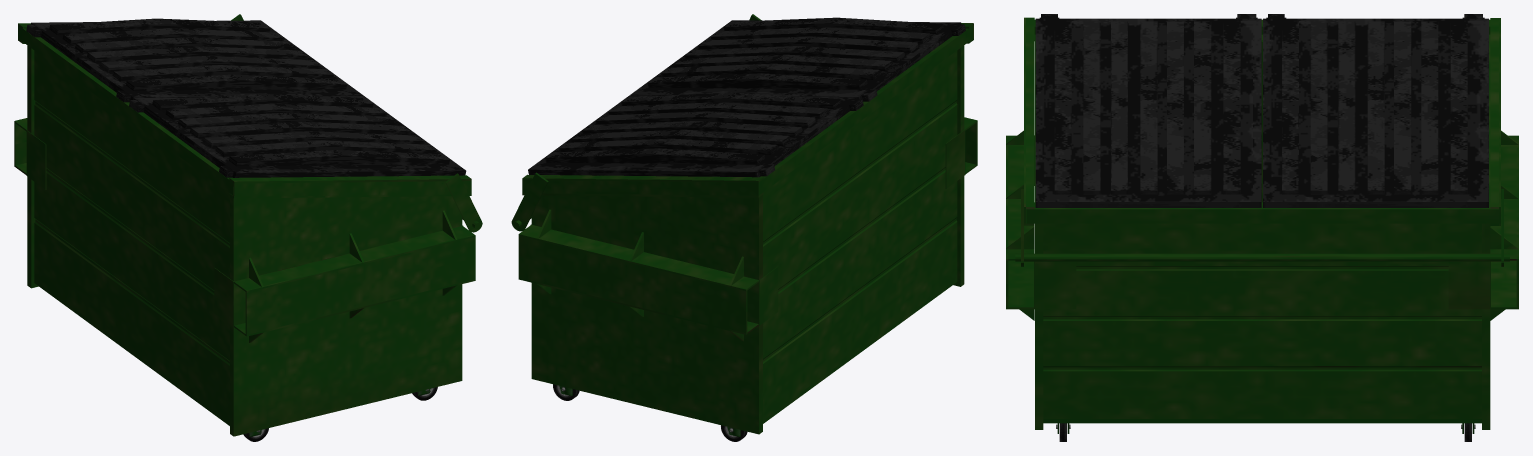
Rendered from Bin.fbx.
3 renders of one model, left to right at view 1: azimuth 30°, elevation 25°; view 2: azimuth 150°, elevation 25°; view 3: azimuth 270°, elevation 25°, orthographic. The views are drawn at different scales.
Parts seen in each view (by area): view 1: dumpster, lid.001, lid; view 2: dumpster, lid, lid.001; view 3: dumpster, lid.001, lid.
Part boxes in pixels (x1,y1,x2,y2): dumpster: [14, 14, 482, 436]; lid.001: [133, 94, 466, 177]; lid: [30, 18, 363, 99]; dumpster: [511, 14, 977, 434]; lid: [528, 92, 858, 177]; lid.001: [630, 17, 961, 99]; dumpster: [1006, 17, 1518, 429]; lid.001: [1035, 18, 1261, 207]; lid: [1263, 18, 1488, 207].
Bounding box in the file's own units: 271 × 301 × 441.
